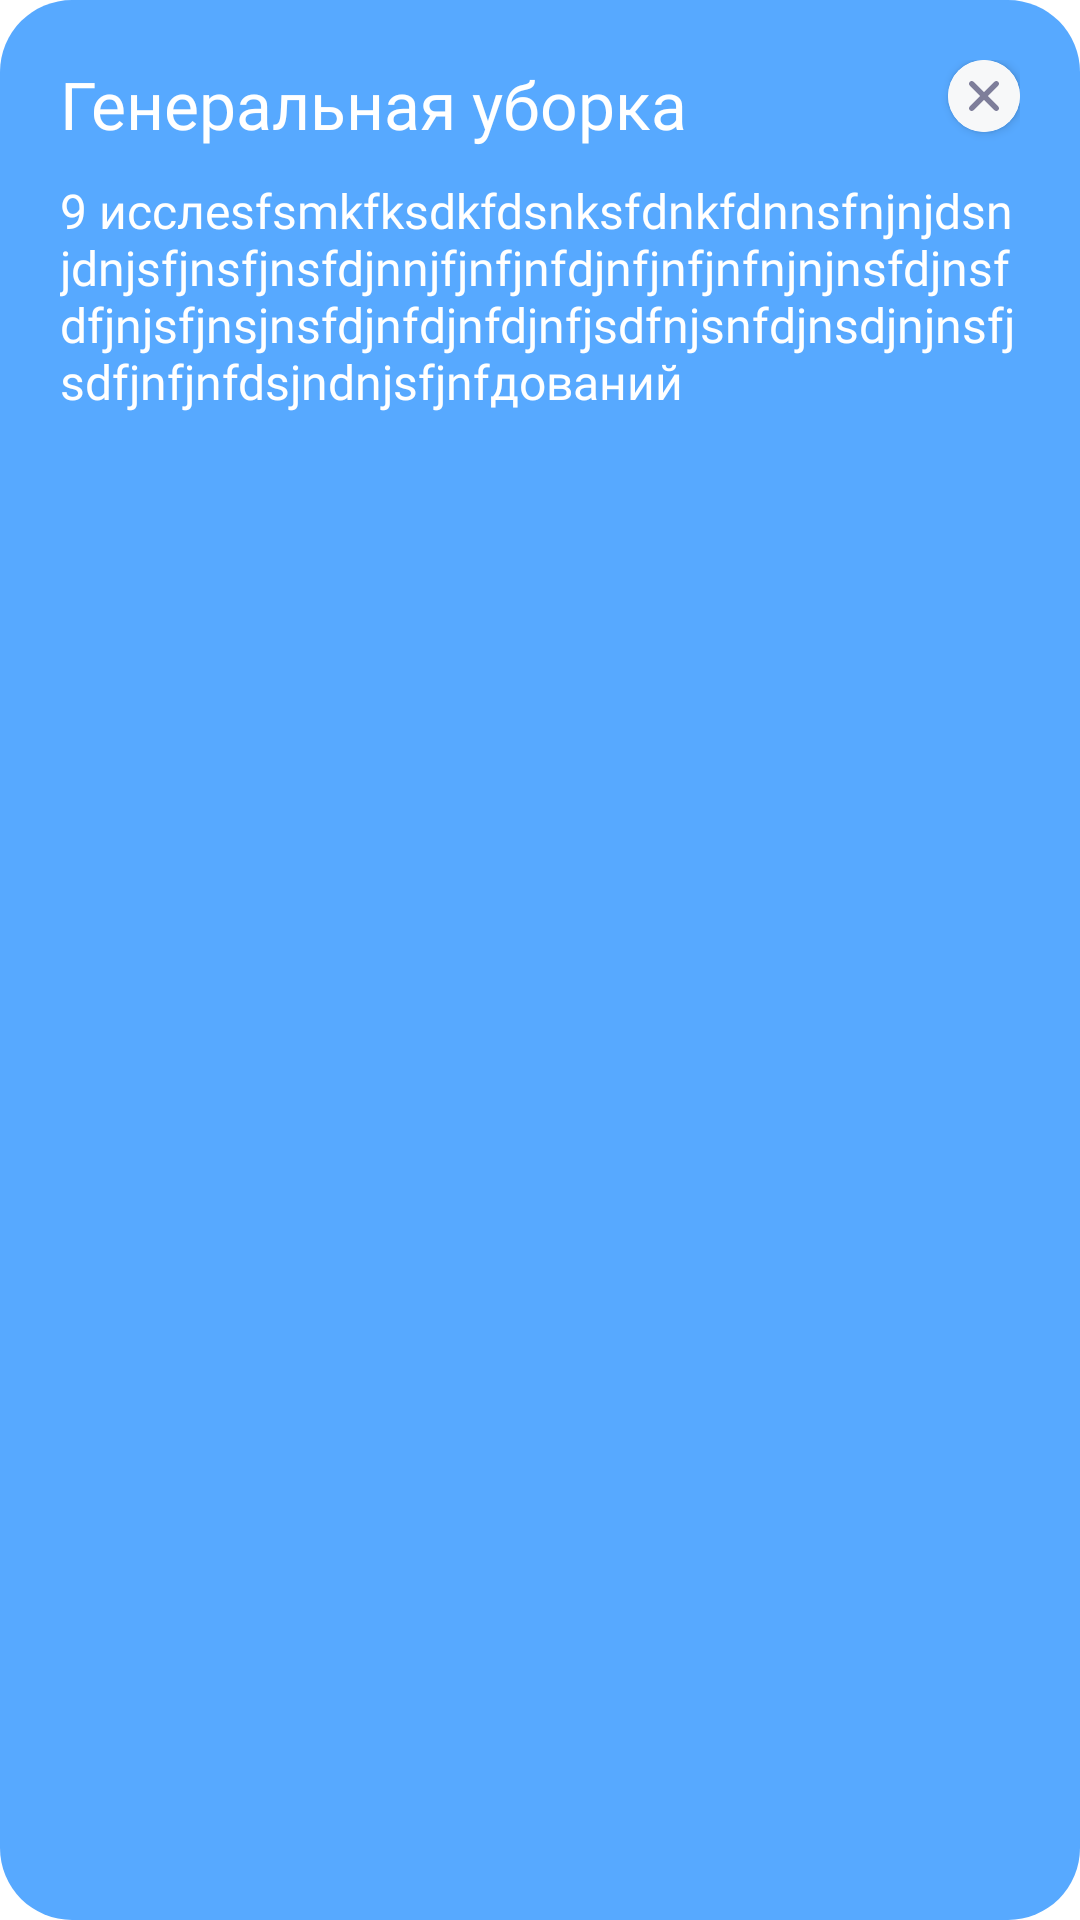

Icon bounding boxes for this 1080*1920 phone screenshot, format Rect(x1, y1, x2, y2):
cross: Rect(948, 60, 1020, 132)
